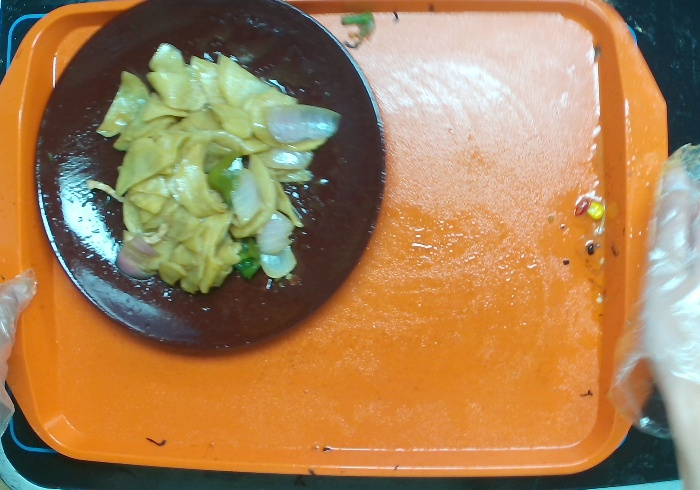HZYJPL-Ka_Fei_Yuan_Pan: (30, 1, 393, 358)
